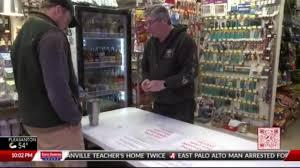Normal: (6, 1, 255, 161)
